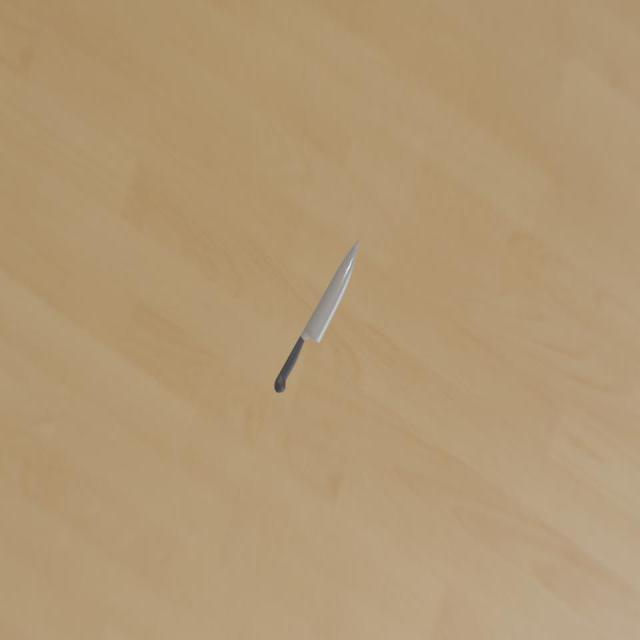knife: (274, 336, 306, 393)
